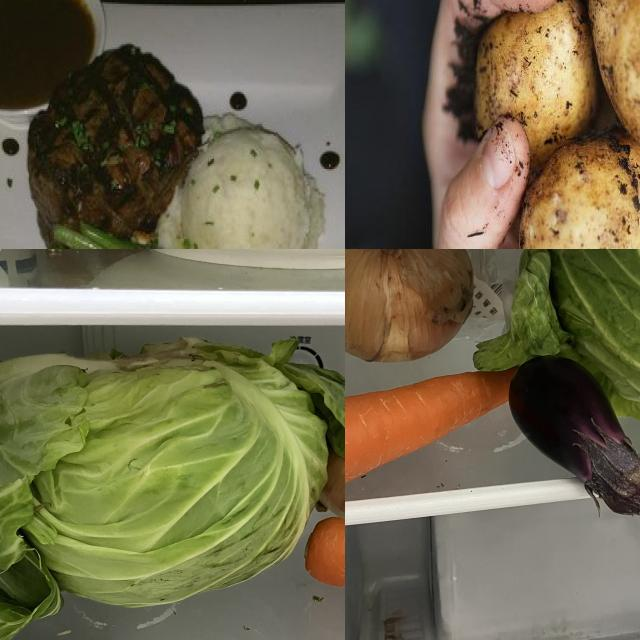cabbage: (1, 335, 346, 640), (472, 250, 640, 433)
carrot: (346, 367, 523, 498)
eggplant: (507, 354, 640, 533)
onion: (346, 250, 480, 367), (310, 376, 346, 536)
potato: (482, 1, 588, 165), (522, 141, 640, 250), (593, 1, 640, 160)
